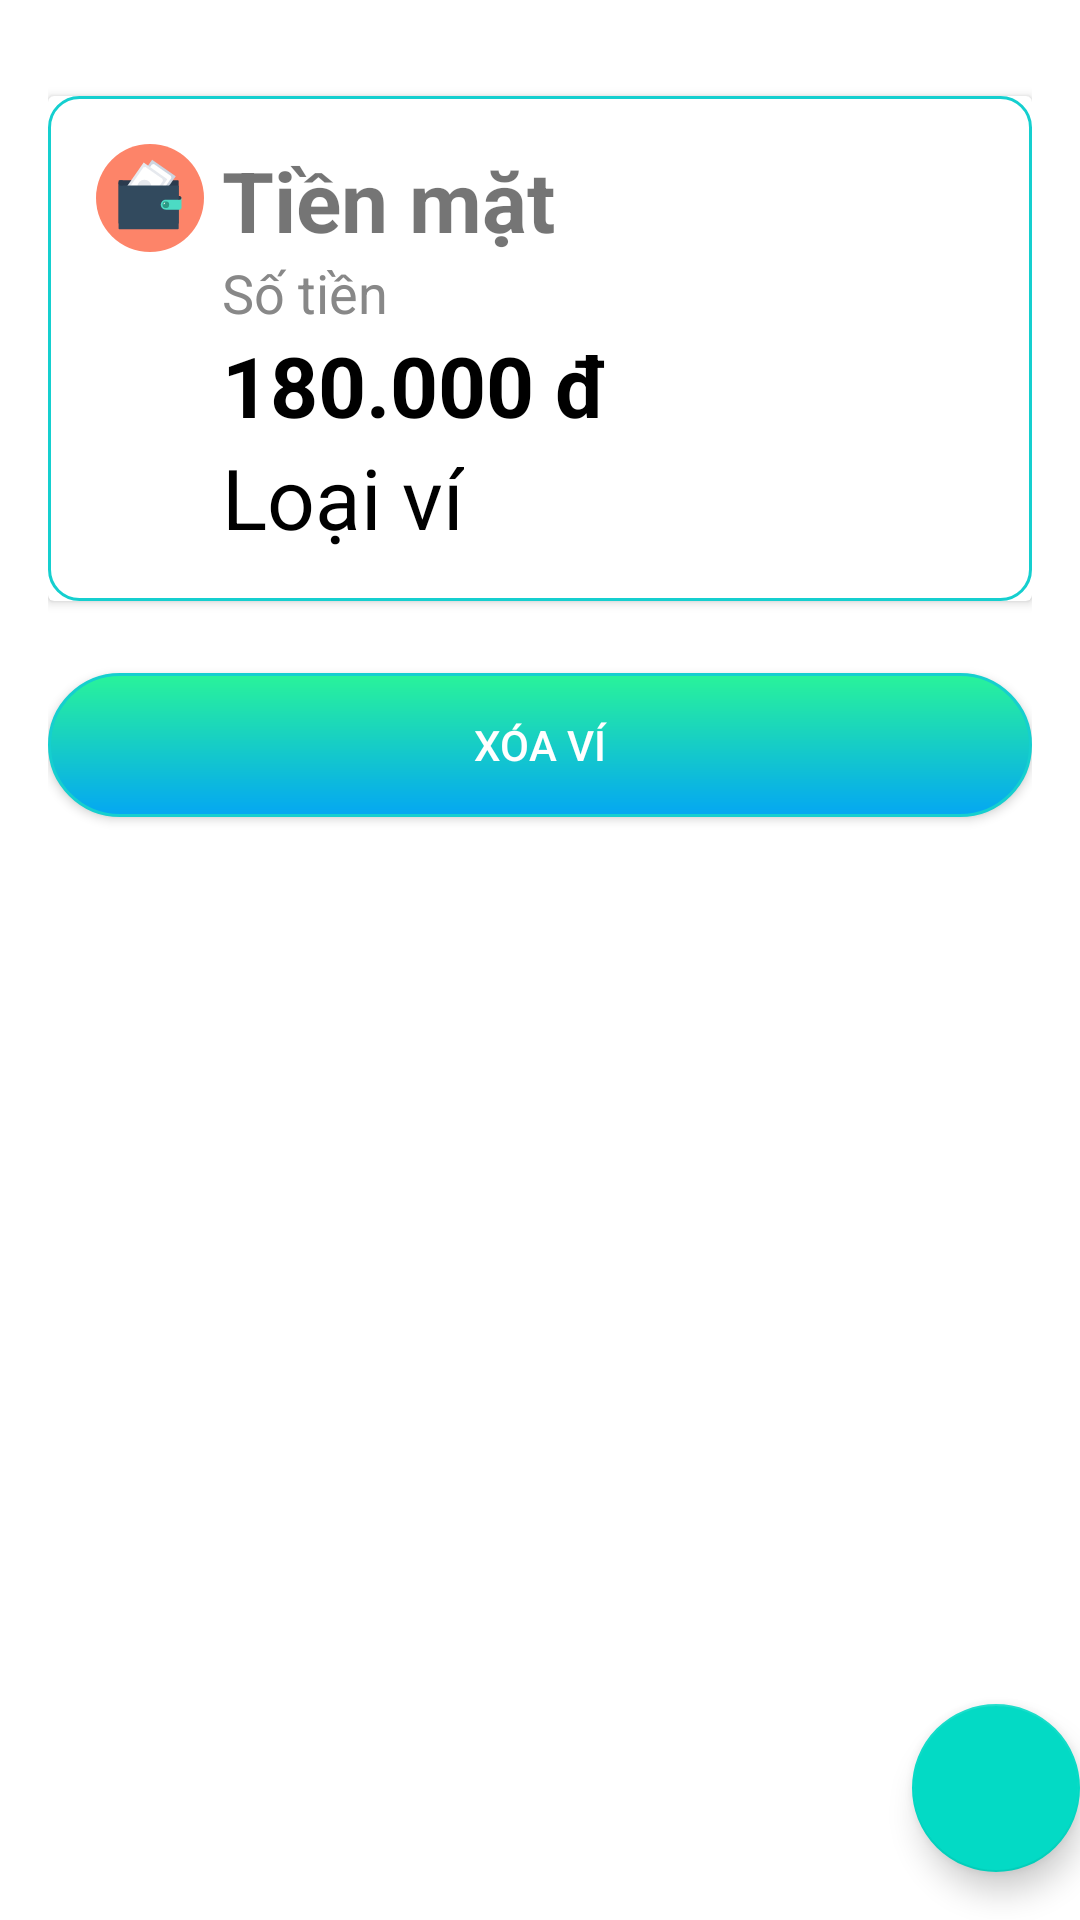

Where to tap for icons on this 1080 × 1920 app screen, as (x=x, y=y):
wallet: (x=150, y=198)
